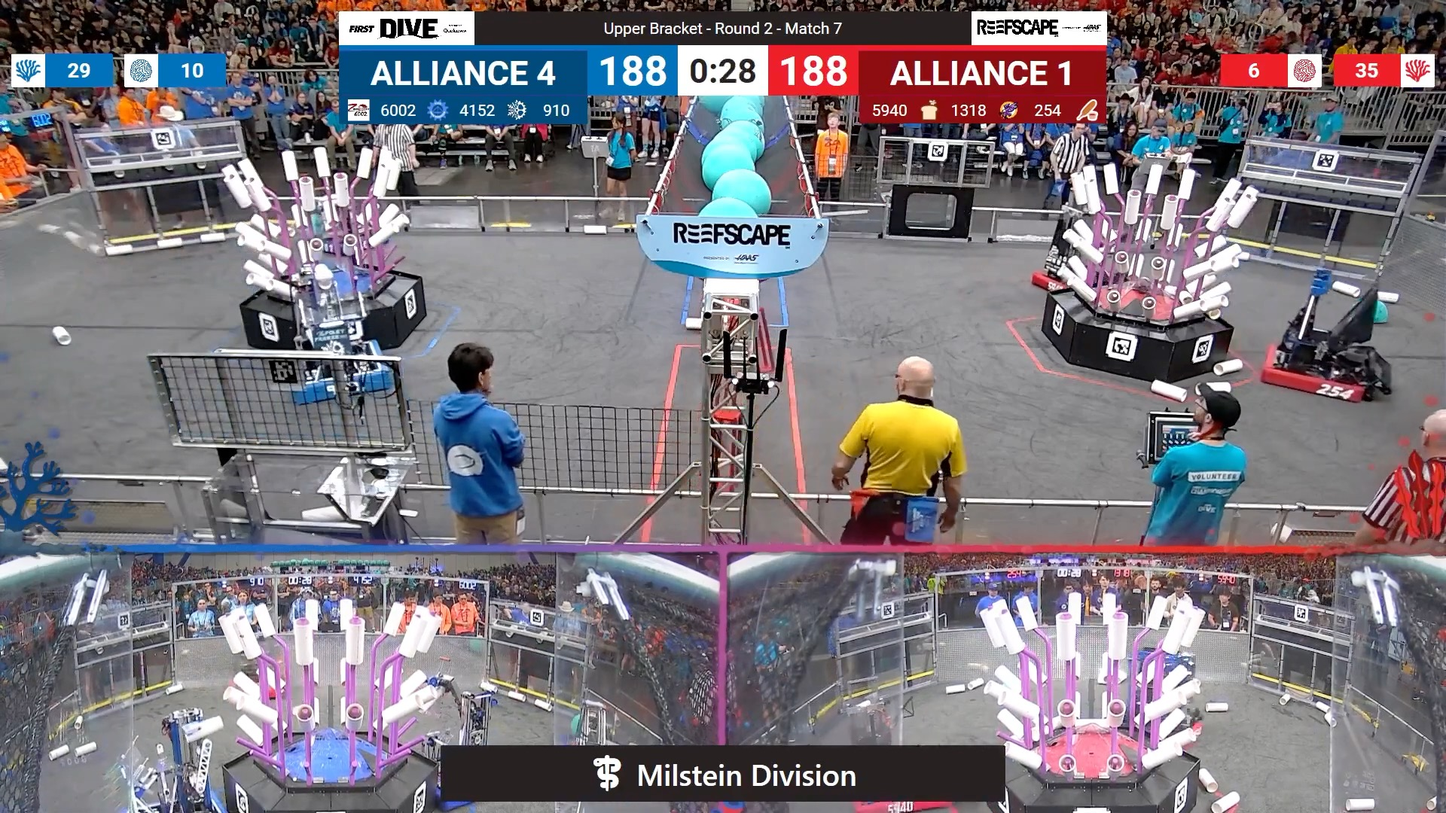bumpers: (1243, 339, 1384, 413), (266, 344, 397, 405), (1027, 259, 1078, 296)
